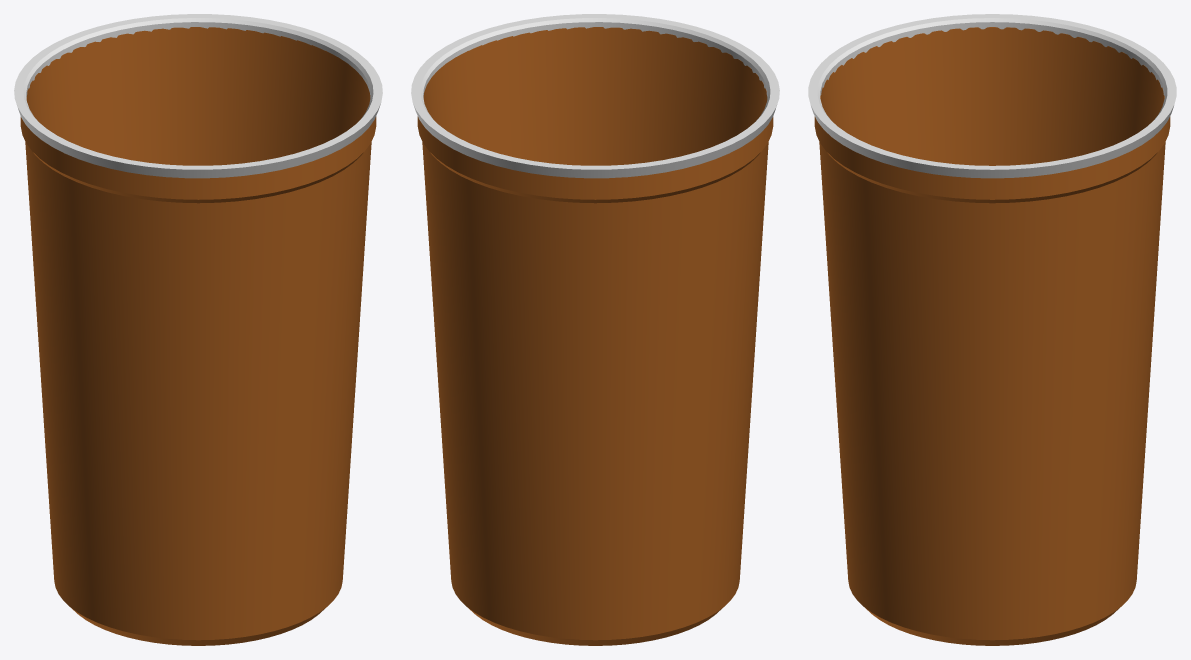
The picture shows the model from 3 angles, left to right: view 1: azimuth 30°, elevation 25°; view 2: azimuth 150°, elevation 25°; view 3: azimuth 270°, elevation 25°; orthographic projection.
Visible parts, largest first — view 1: vessel; view 2: vessel; view 3: vessel.
Part boxes in pixels (bbox=[...]): vessel: bbox=[14, 14, 382, 645]; vessel: bbox=[411, 14, 779, 645]; vessel: bbox=[808, 14, 1176, 645].
Size of the model in its own units: 0.0672 by 0.1 by 0.0671.
